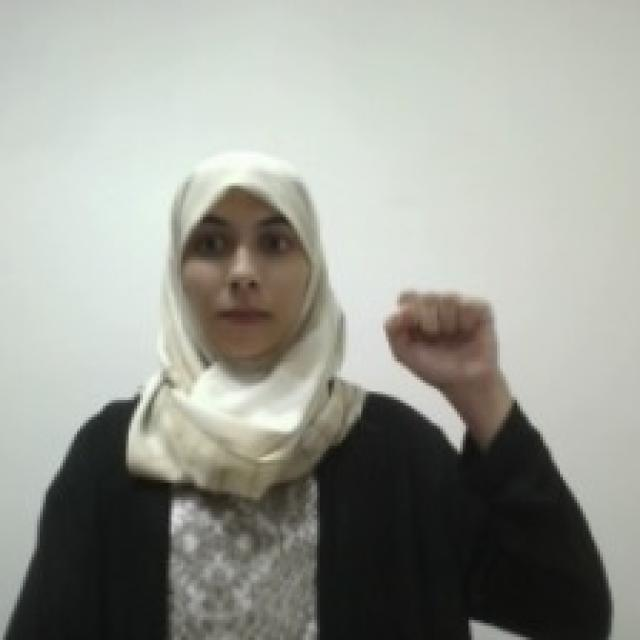yes: (377, 282, 504, 388)
